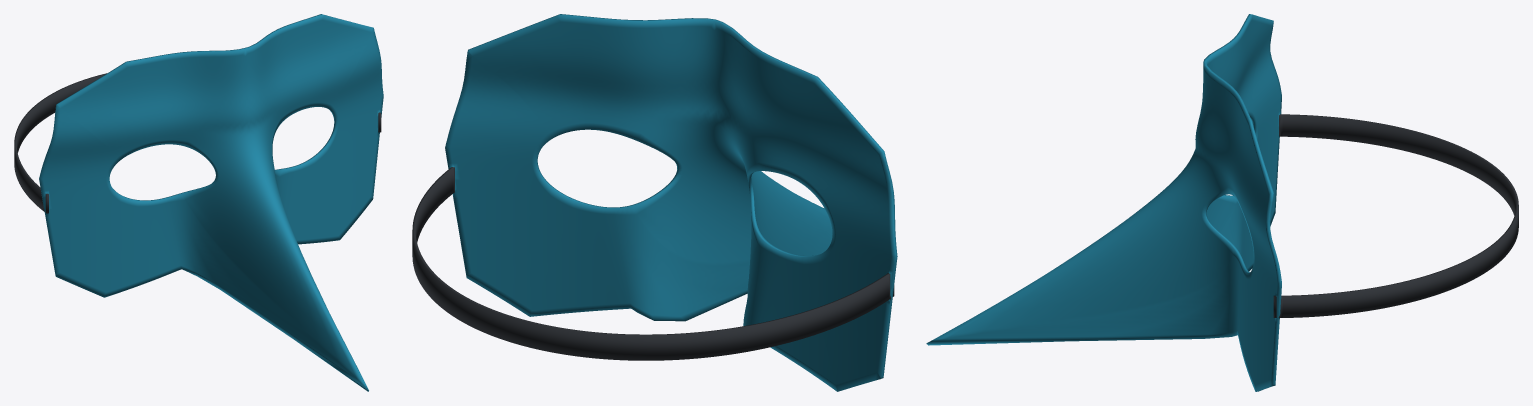
3 views of the same model, side by side, from view 1: azimuth 30°, elevation 25°; view 2: azimuth 150°, elevation 25°; view 3: azimuth 270°, elevation 25° (orthographic). The views are drawn at different scales.
Visible parts, largest first — view 1: Closed mask shell and rear strap assembly; view 2: Closed mask shell and rear strap assembly; view 3: Closed mask shell and rear strap assembly.
Boxes of the visible parts, bbox=[...] form: Closed mask shell and rear strap assembly: bbox=[14, 14, 383, 391]; Closed mask shell and rear strap assembly: bbox=[412, 14, 897, 391]; Closed mask shell and rear strap assembly: bbox=[926, 14, 1518, 391].
Size of the model in its own units: 22.8 by 16.01 by 30.37.
